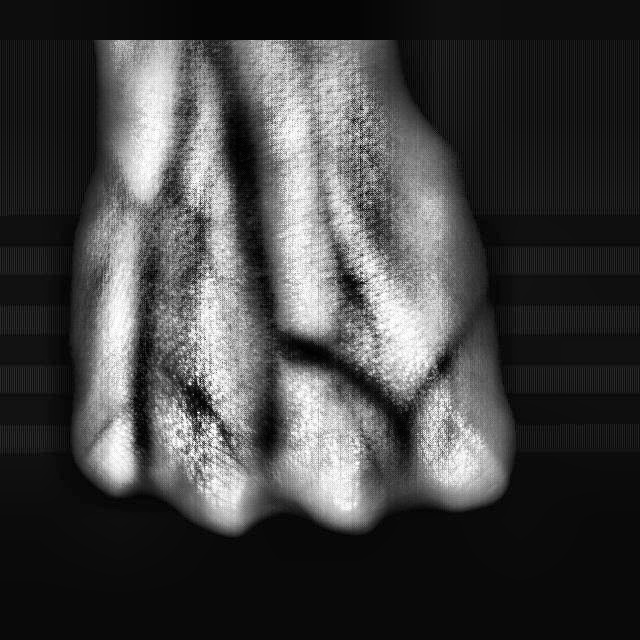Vein: (213, 75, 285, 322)
